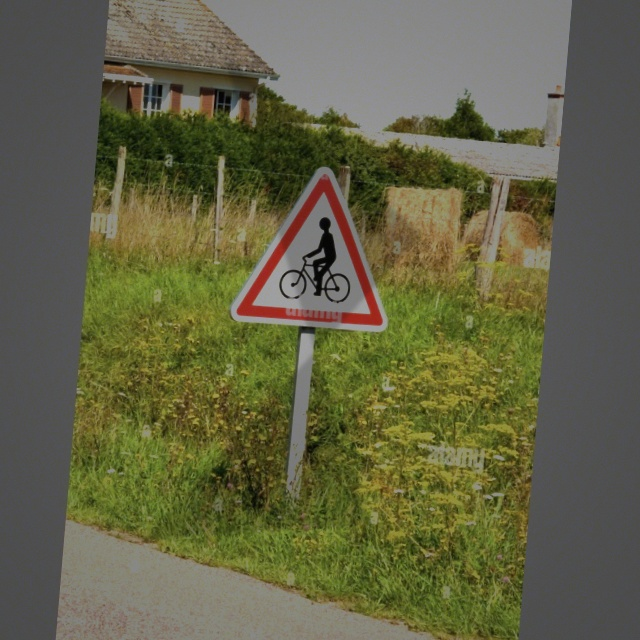Cycle_Crossing: (241, 165, 400, 339)
